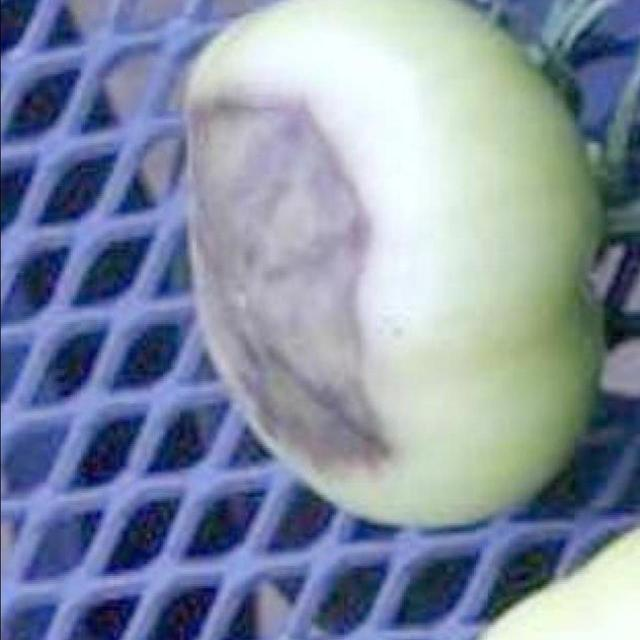Blossom End Rot Fruit: (123, 61, 259, 316)
